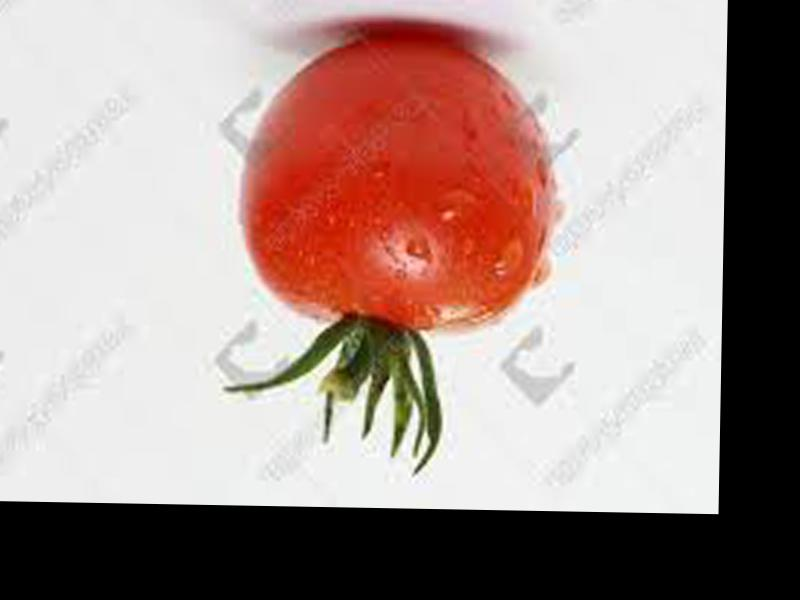Tomato: (237, 32, 556, 328)
